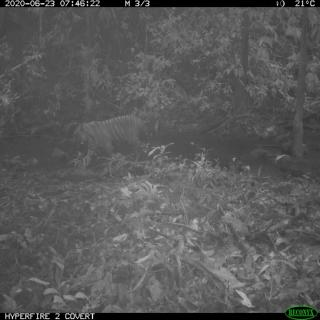Tiger: (68, 94, 152, 168)
